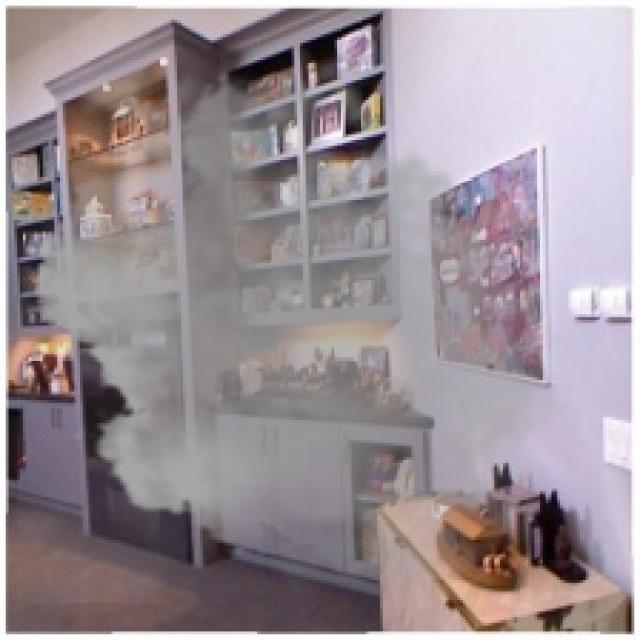smoke: (17, 40, 583, 603)
